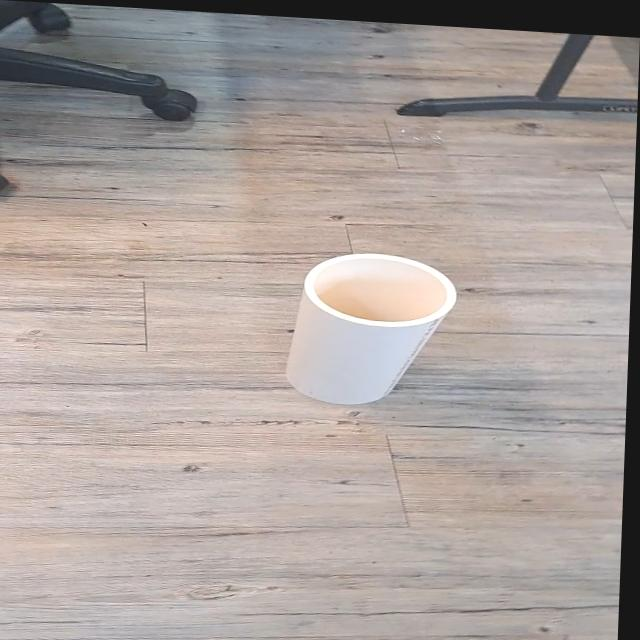CORAL: (274, 228, 475, 423)
